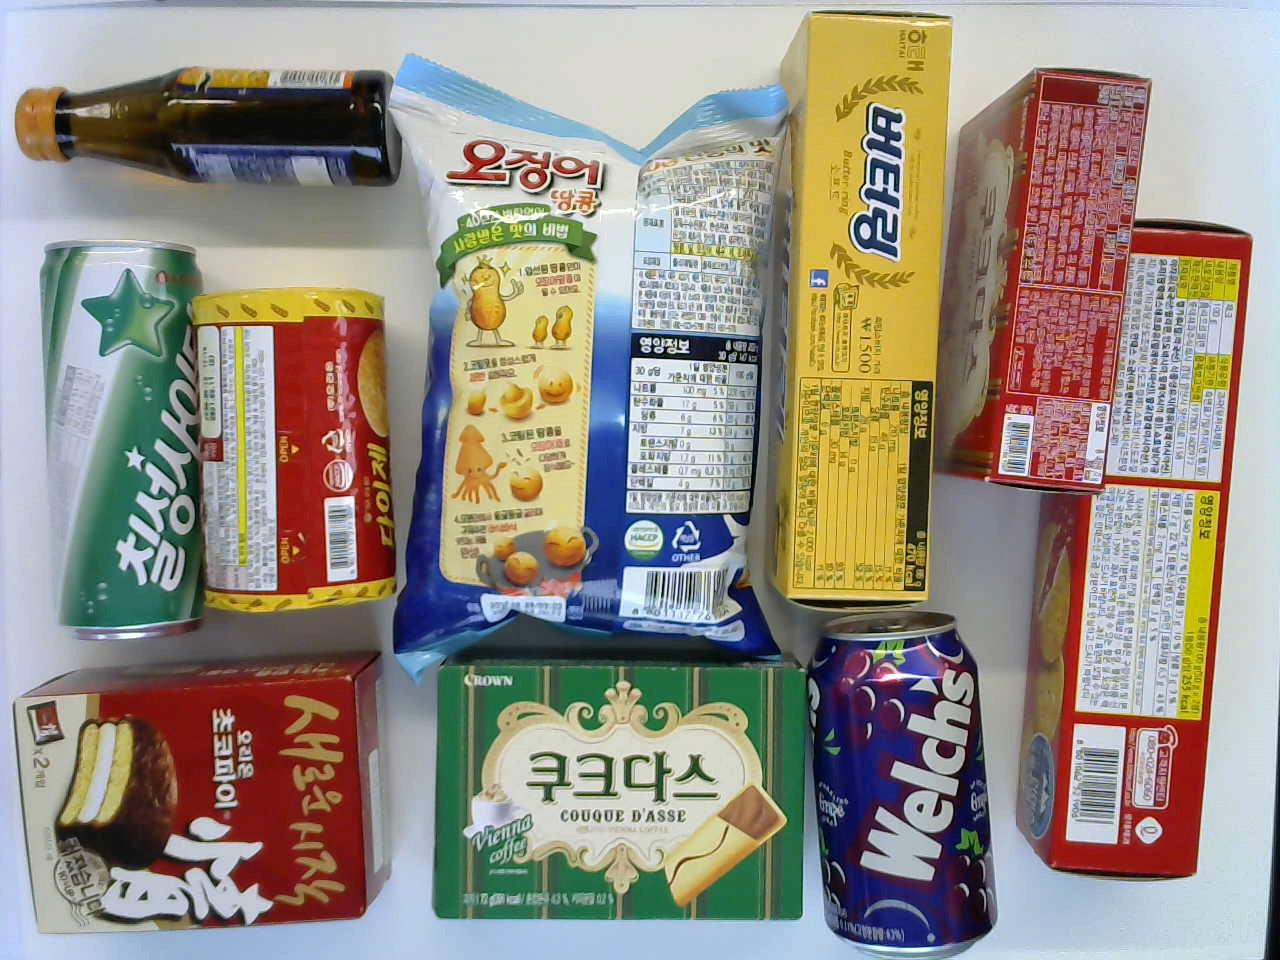buttering: (776, 13, 953, 612)
chocopie: (6, 664, 390, 932)
cidar: (34, 236, 201, 638)
couque_coffee: (422, 645, 807, 920)
couque_white: (959, 73, 1155, 487)
diget_ori: (190, 287, 384, 618)
squid_peanut: (394, 49, 782, 664)
vita500: (0, 65, 404, 196)
welchs: (816, 610, 983, 945)
zec: (1009, 221, 1256, 878)
